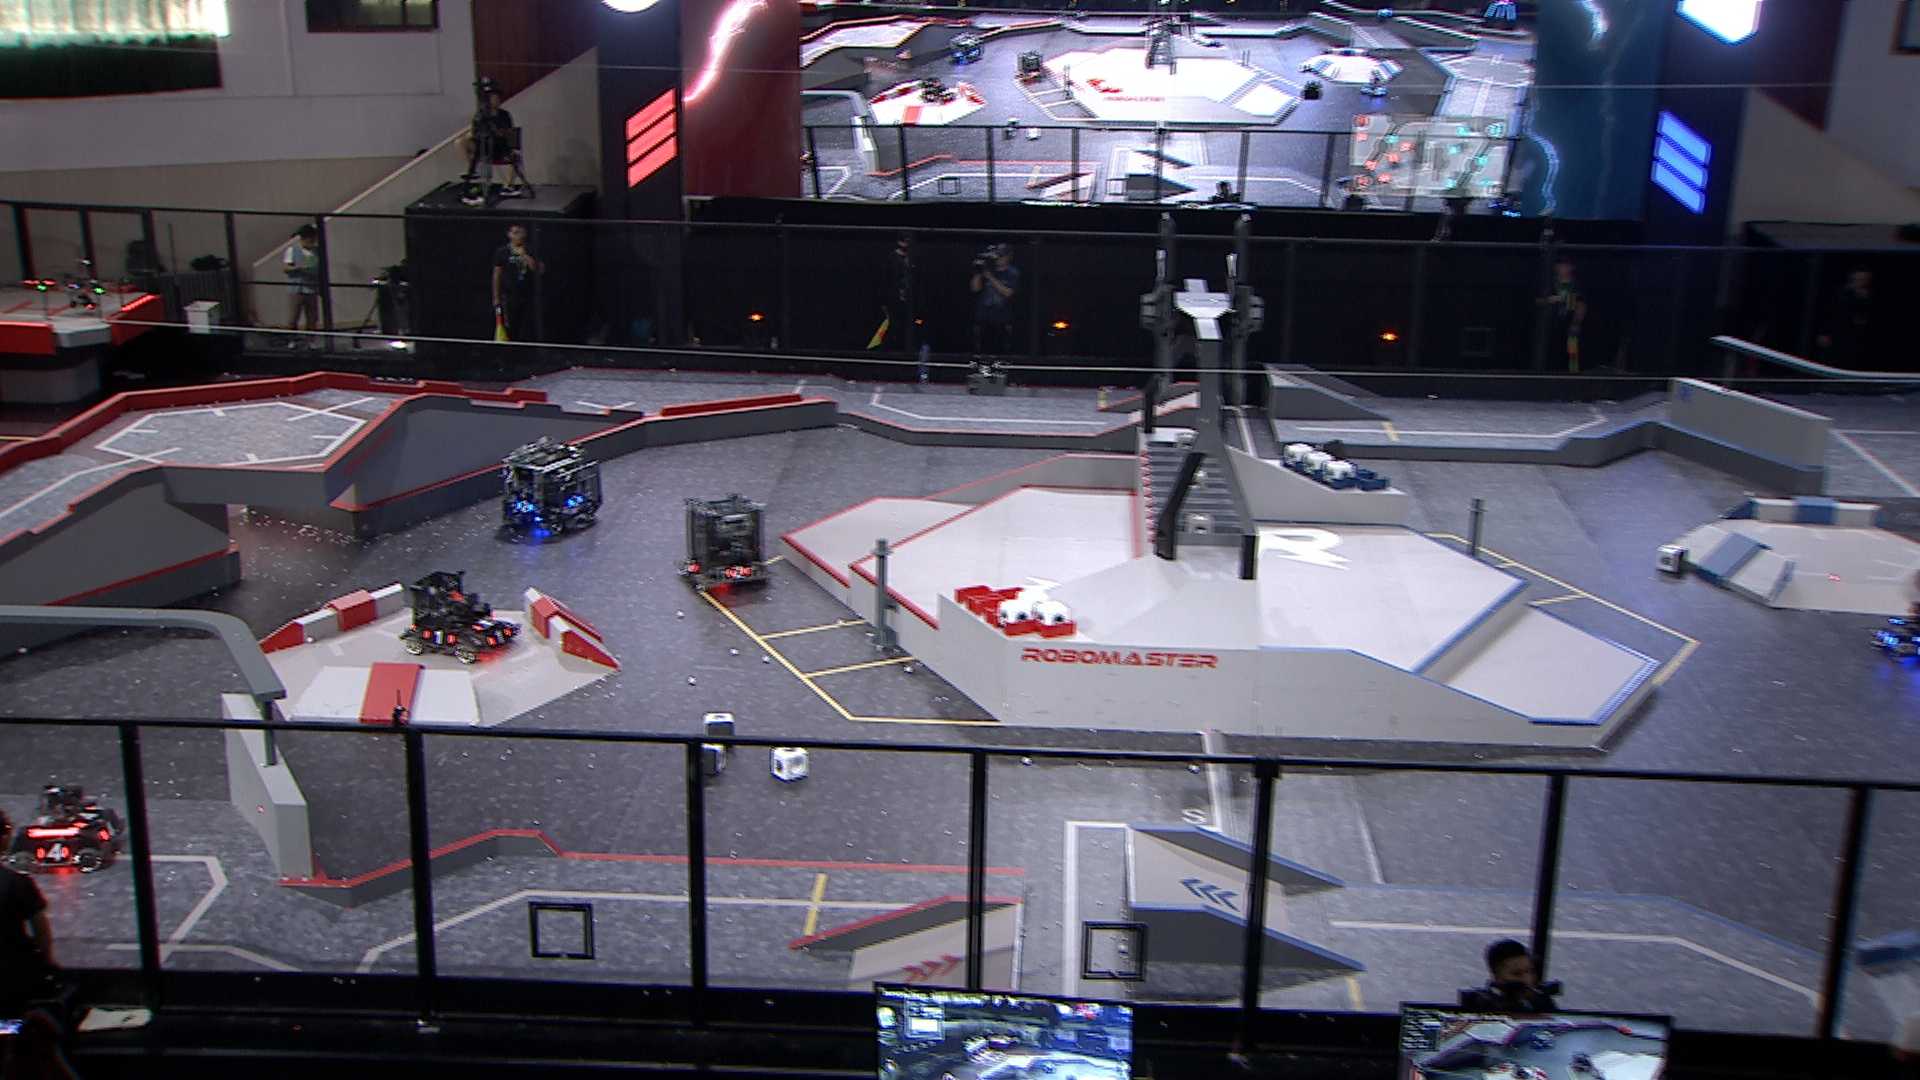armor: (73, 803, 98, 829), (425, 626, 455, 647), (36, 845, 69, 861), (487, 628, 512, 647), (98, 822, 123, 840), (471, 615, 498, 629), (727, 566, 749, 583), (1879, 629, 1898, 646), (567, 495, 585, 508), (516, 500, 531, 514)
car: (398, 564, 522, 662), (495, 438, 604, 538), (7, 781, 125, 873), (675, 495, 775, 597), (1869, 593, 1920, 669)
ignore: (948, 33, 986, 65), (920, 74, 953, 109), (1528, 1022, 1557, 1058), (1567, 1048, 1602, 1077), (1360, 67, 1393, 98), (795, 145, 825, 177), (1015, 53, 1048, 79), (1375, 3, 1395, 21)
